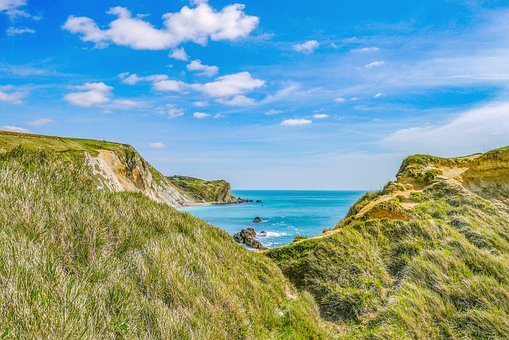beach: (163, 181, 366, 262)
mountain: (13, 145, 215, 340), (307, 145, 509, 340)
sky: (3, 5, 509, 159)
